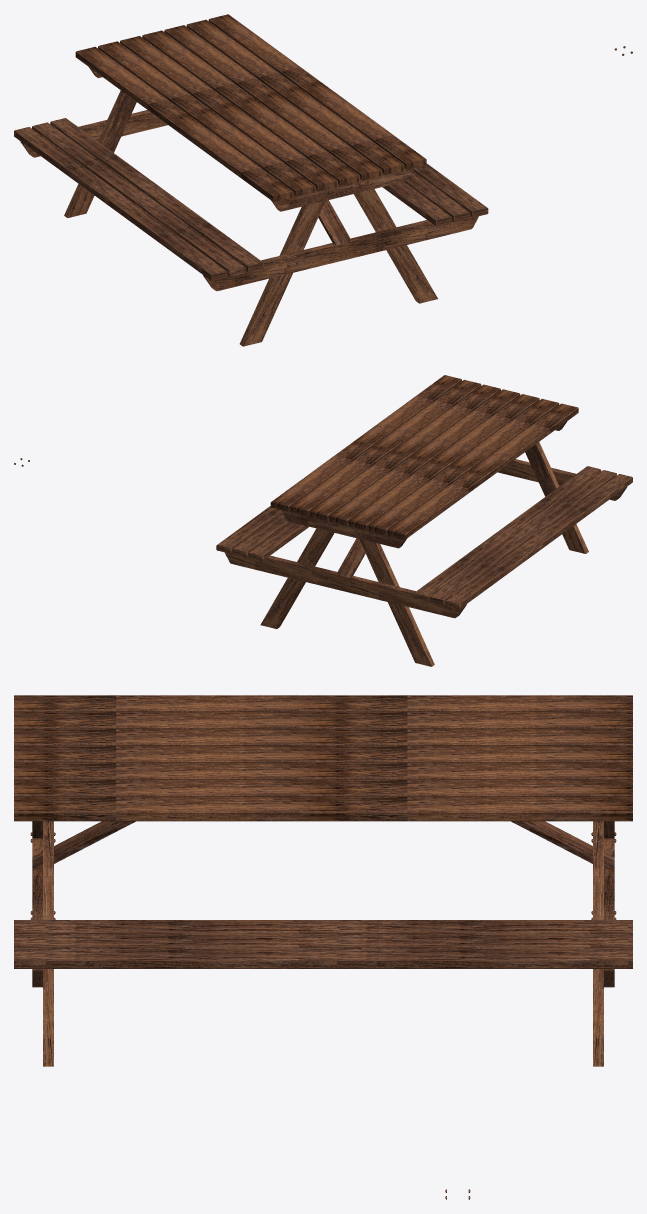
File: banc.obj
3 renders of one model, top to bottom at view 1: azimuth 30°, elevation 25°; view 2: azimuth 150°, elevation 25°; view 3: azimuth 270°, elevation 25°, orthographic. The views are drawn at different scales.
Parts seen in each view (by area): view 1: Componen38, Componen46, Componen37, Componen34, Componen40, Componen36, Componen42, Componen54, Componen44, Componen32, Componen33, Componen41 (+8 smaller); view 2: Componen38, Componen51, Componen36, Componen40, Componen37, Componen34, Componen54, Componen42, Componen44, Componen32, Componen33, Componen48 (+8 smaller); view 3: Componen37, Componen47, Componen34, Componen36, Componen38, Componen40, Componen42, Componen54, Componen35, Componen39, Componen45, Componen50 (+4 smaller).
Boxes of the visible parts, left/top/right/bottom form: Componen38: left=75, top=46, right=293, bottom=202; Componen46: left=203, top=216, right=478, bottom=291; Componen37: left=208, top=14, right=426, bottom=169; Componen34: left=120, top=36, right=337, bottom=191; Componen40: left=186, top=19, right=404, bottom=175; Componen36: left=98, top=41, right=315, bottom=196; Componen42: left=164, top=25, right=381, bottom=180; Componen54: left=142, top=30, right=359, bottom=185; Componen44: left=14, top=127, right=227, bottom=281; Componen32: left=50, top=118, right=263, bottom=272; Componen33: left=32, top=122, right=245, bottom=276; Componen41: left=239, top=201, right=325, bottom=346; Componen38: left=387, top=403, right=578, bottom=539; Componen51: left=224, top=552, right=466, bottom=618; Componen36: left=368, top=398, right=559, bottom=535; Componen40: left=290, top=379, right=481, bottom=516; Componen37: left=270, top=375, right=461, bottom=511; Componen34: left=348, top=394, right=539, bottom=530; Componen54: left=329, top=389, right=520, bottom=525; Componen42: left=309, top=384, right=500, bottom=520; Componen44: left=445, top=474, right=632, bottom=609; Componen32: left=413, top=466, right=601, bottom=601; Componen33: left=429, top=470, right=616, bottom=605; Componen48: left=359, top=539, right=434, bottom=666; Componen37: left=14, top=797, right=632, bottom=821; Componen47: left=14, top=947, right=632, bottom=968; Componen34: left=14, top=729, right=632, bottom=746; Componen36: left=14, top=712, right=632, bottom=729; Componen38: left=14, top=695, right=632, bottom=712; Componen40: left=14, top=780, right=632, bottom=796; Componen42: left=14, top=763, right=632, bottom=779; Componen54: left=14, top=746, right=632, bottom=762; Componen35: left=14, top=920, right=632, bottom=933; Componen39: left=14, top=934, right=632, bottom=947; Componen45: left=43, top=821, right=53, bottom=1066; Componen50: left=593, top=821, right=603, bottom=1066.
Bounding box in the file's own units: 109 × 28.45 × 66.93.
1 material, 1 textured.
